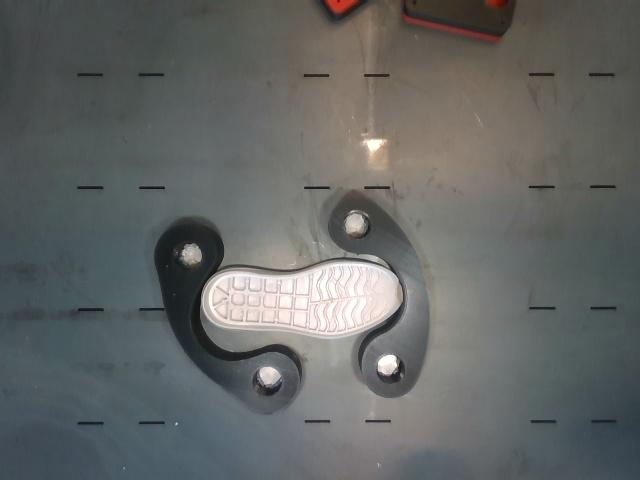shoes: (203, 262, 403, 337)
